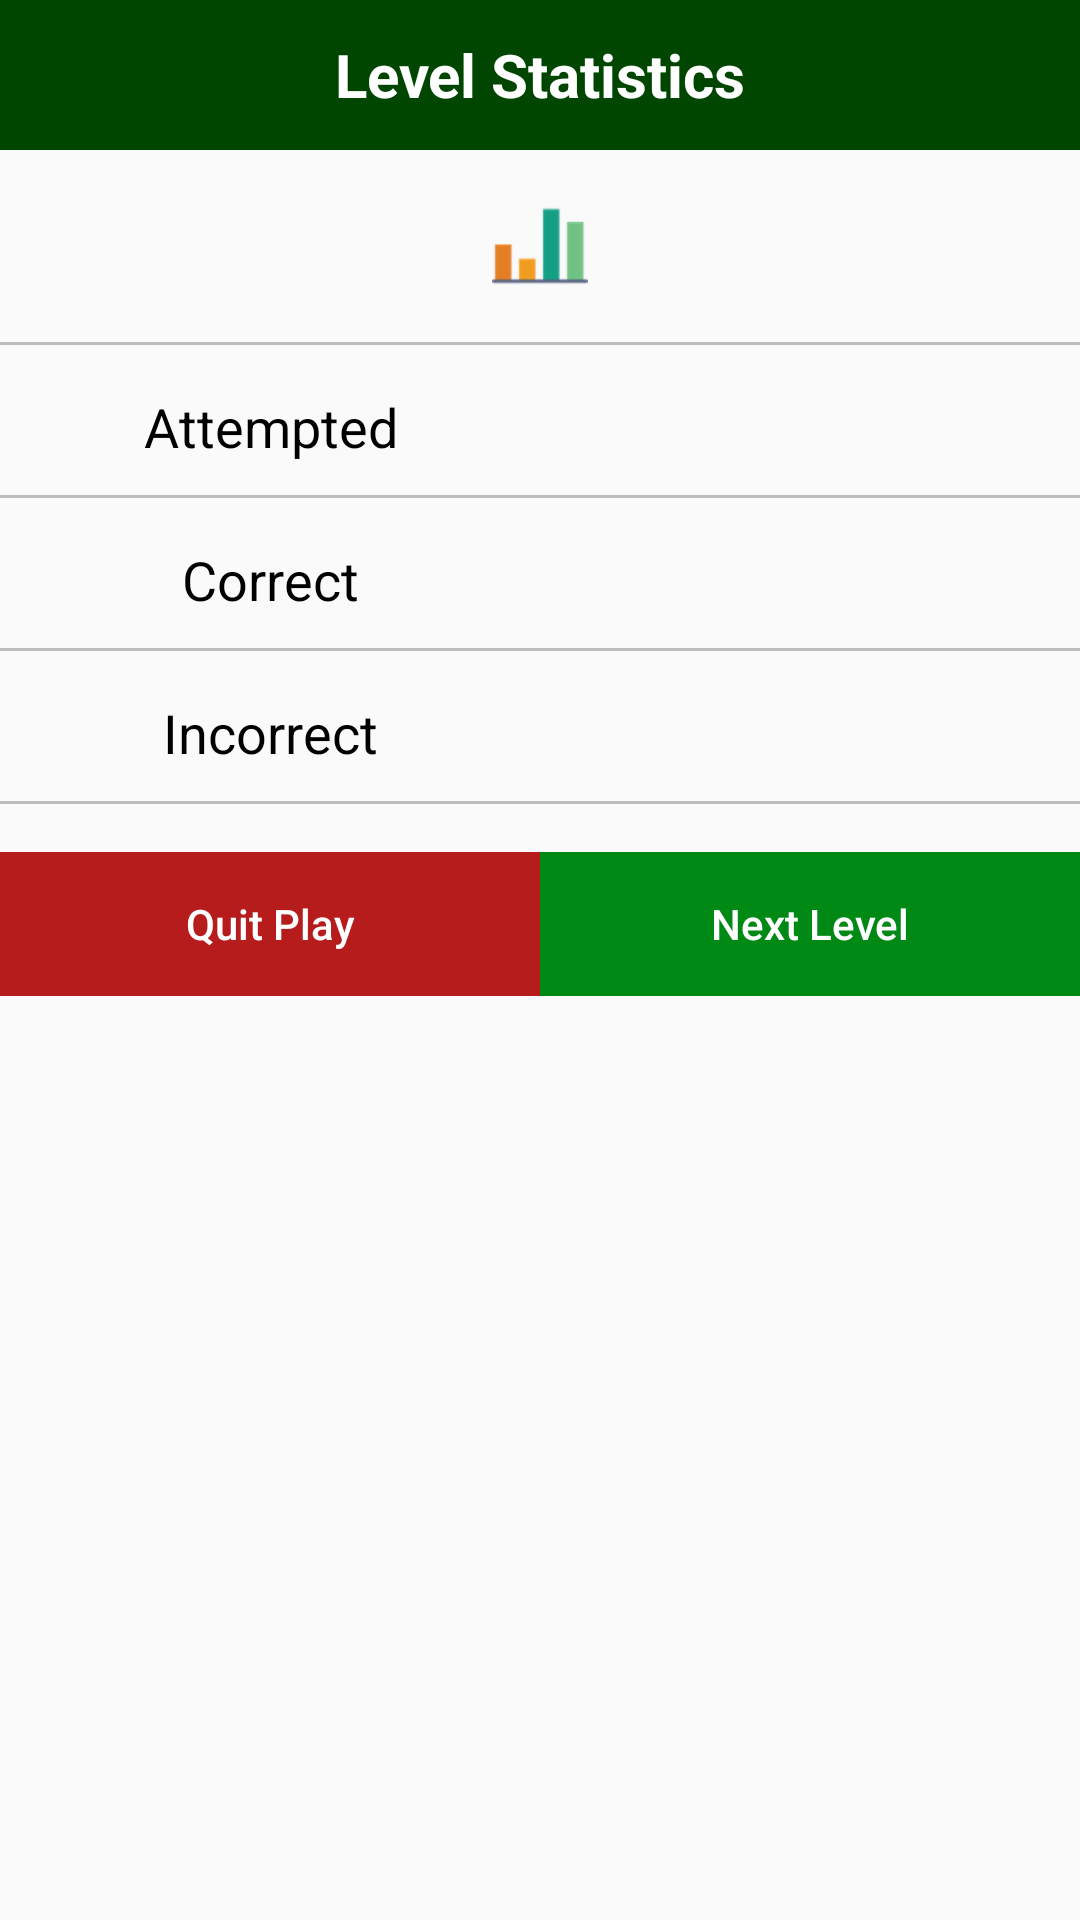

Icon click points for this 1080x1920 phone screenshot, format [x,y]:
graph: [540,246]
